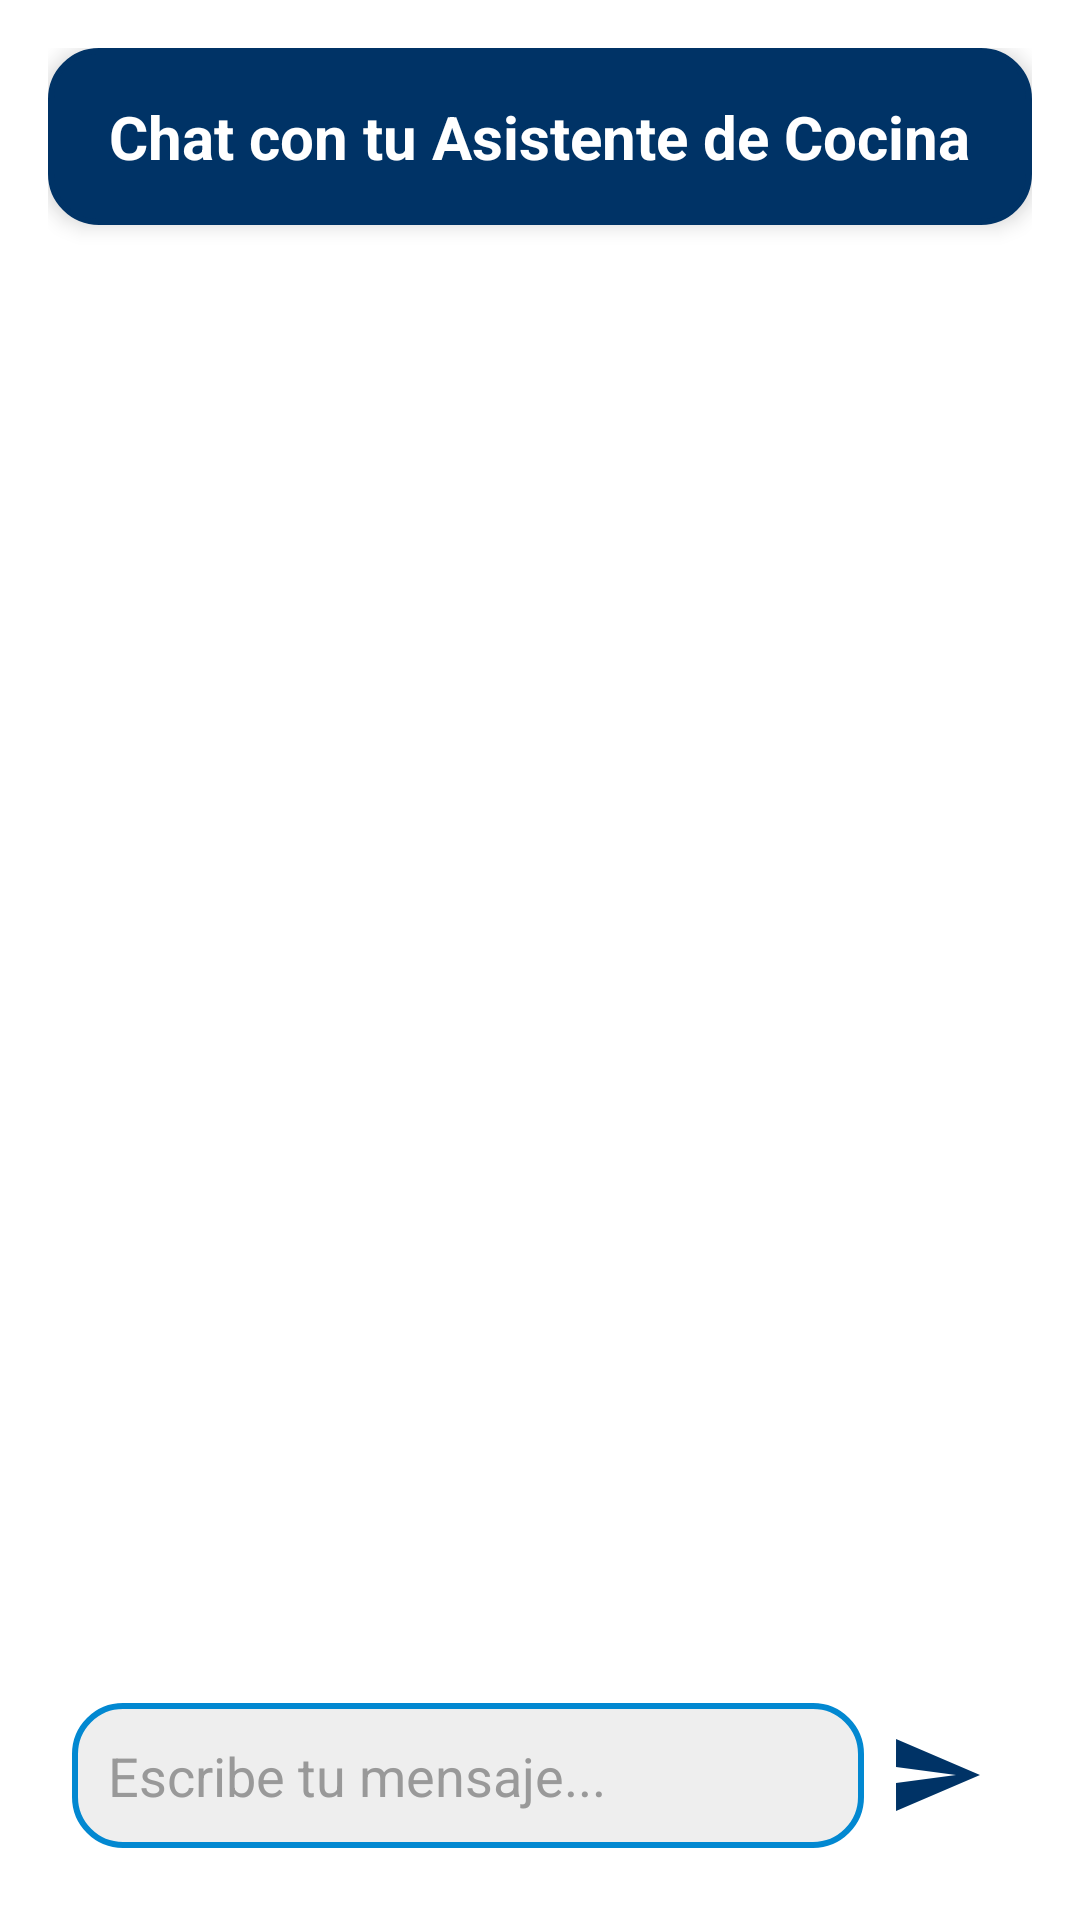

Icons on this 1080px x 1920px Android screen, each with its box as (x1, y1, x2, y2):
Enviar mensaje: (896, 1739, 980, 1811)
